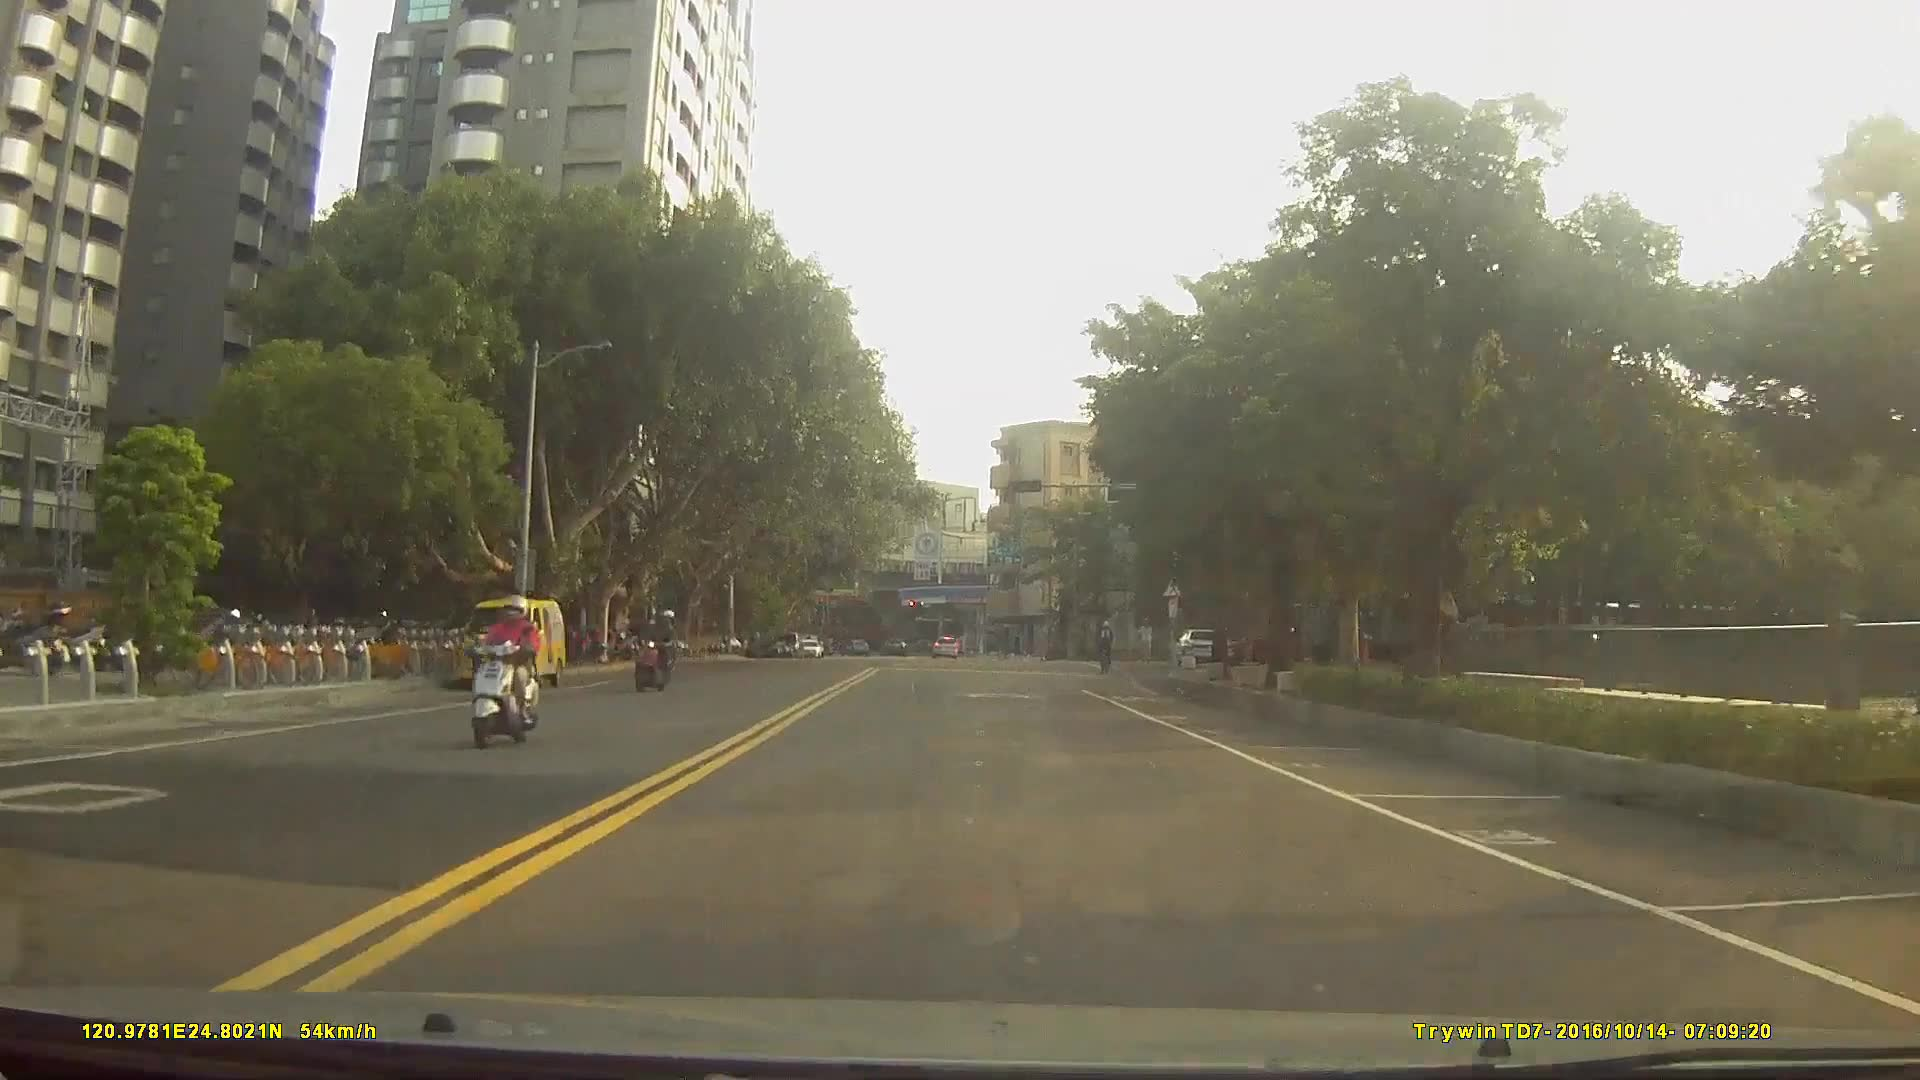pedestrian: (1135, 613, 1155, 664)
rider: (468, 591, 545, 747), (630, 606, 680, 691), (1097, 619, 1117, 676)
vehicle: (1173, 625, 1231, 666), (934, 633, 959, 656)
